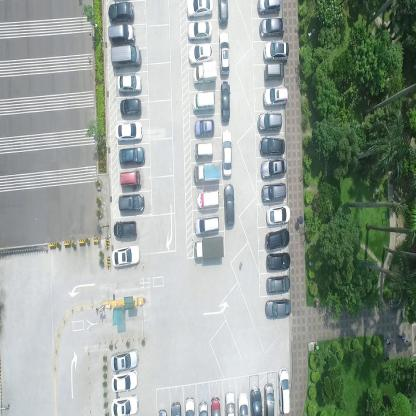car: (194, 236, 224, 263), (110, 44, 140, 70), (111, 243, 140, 269), (110, 351, 138, 376), (111, 368, 139, 392), (108, 0, 134, 25), (265, 228, 291, 252), (193, 162, 220, 185), (260, 157, 287, 180), (264, 300, 292, 322), (114, 121, 143, 142), (110, 394, 139, 415), (193, 216, 220, 238), (193, 61, 217, 85), (278, 367, 290, 415), (263, 85, 288, 108), (266, 204, 291, 227), (266, 274, 291, 297), (257, 111, 283, 133), (259, 16, 285, 38), (117, 194, 144, 215), (108, 23, 135, 44), (223, 184, 235, 230), (185, 0, 214, 19), (262, 182, 287, 204), (218, 31, 230, 76), (221, 130, 232, 179), (188, 20, 212, 42), (188, 43, 213, 64), (191, 92, 216, 113), (264, 42, 289, 63), (119, 147, 145, 167), (266, 253, 292, 273), (259, 138, 286, 157), (117, 73, 142, 93), (196, 191, 219, 212), (113, 220, 137, 239), (264, 63, 286, 83), (220, 80, 230, 122), (119, 170, 141, 189), (119, 99, 142, 117), (249, 387, 263, 415), (195, 119, 215, 138), (194, 142, 214, 160), (257, 0, 281, 15), (263, 384, 275, 414), (217, 0, 229, 27), (237, 390, 249, 414), (224, 390, 236, 414), (184, 396, 195, 415), (210, 396, 220, 414), (198, 400, 209, 415)
